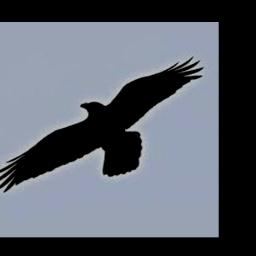Crow: (0, 56, 203, 194)
